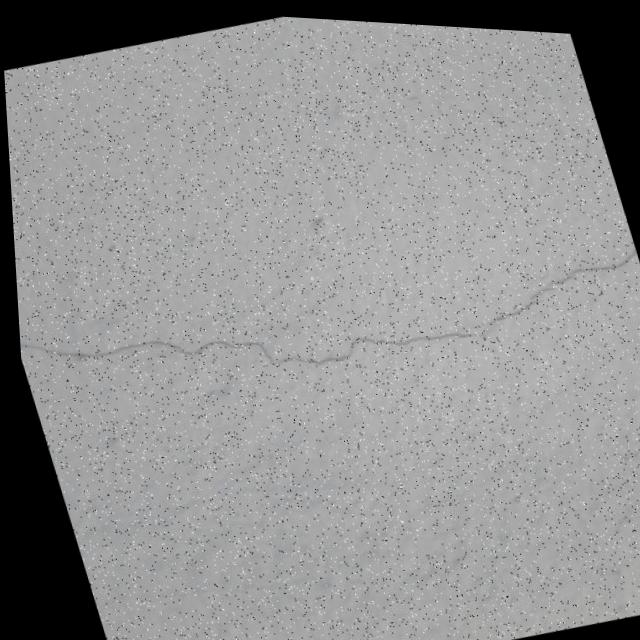Crack: (8, 166, 640, 473)
